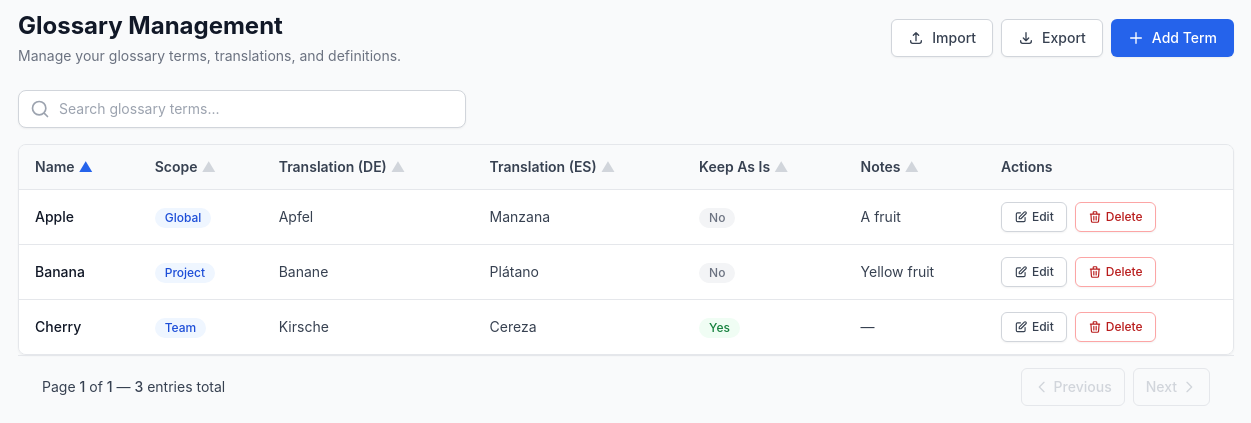
Test case: App › searching terms › clears search when clear button is clicked
Expected: the text "Apple" is shown, [19,190,139,244]
Type "Apple" into the field labelled "Search glossary terms" at (242, 109), box [18,90,466,128]
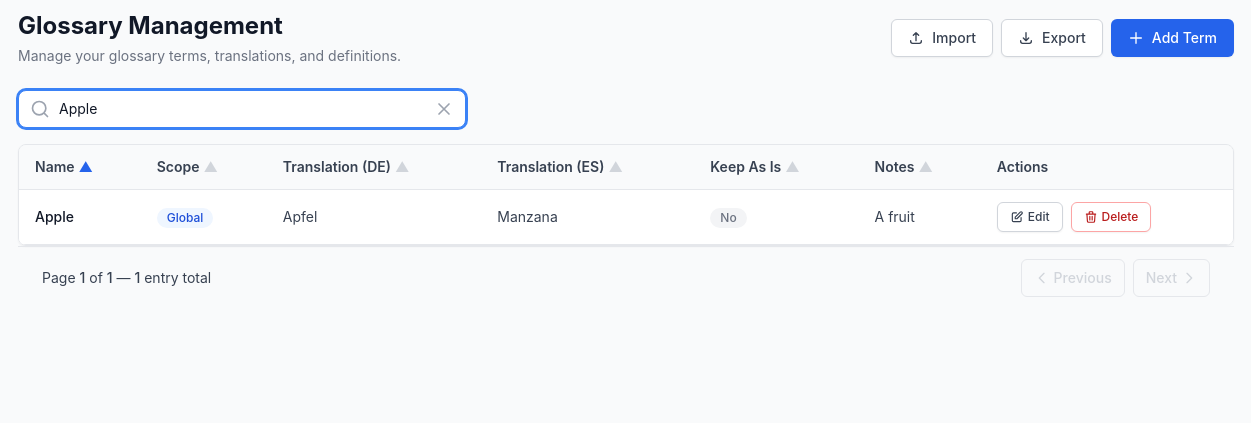
Now the text "Banana" is gone
Click the button named "Clear search" at (450, 109), box [434,90,466,128]
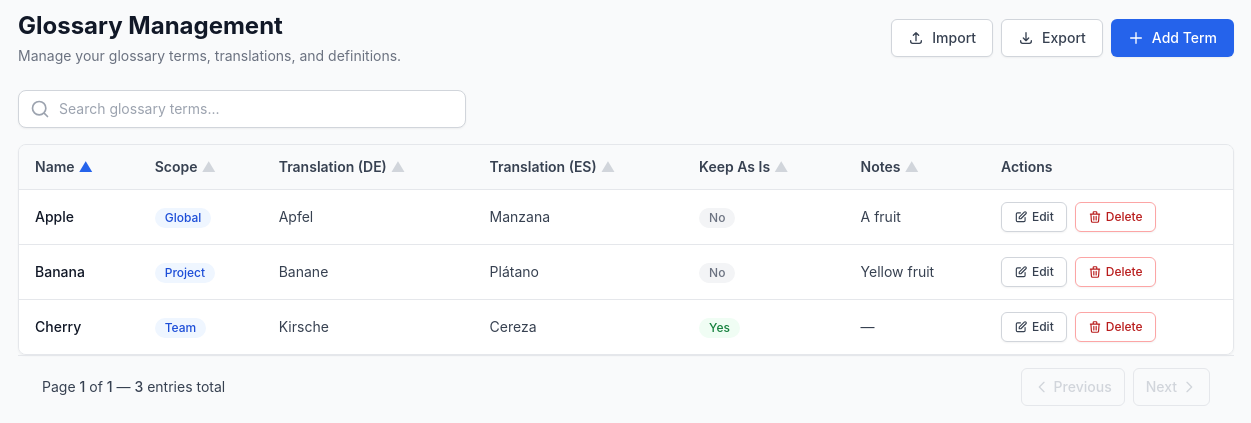
Expected: the text "Apple" is shown, [19,190,139,244]
Now the text "Banana" is shown, box [19,244,139,300]
Now the text "Cherry" is shown, box [19,300,139,354]
